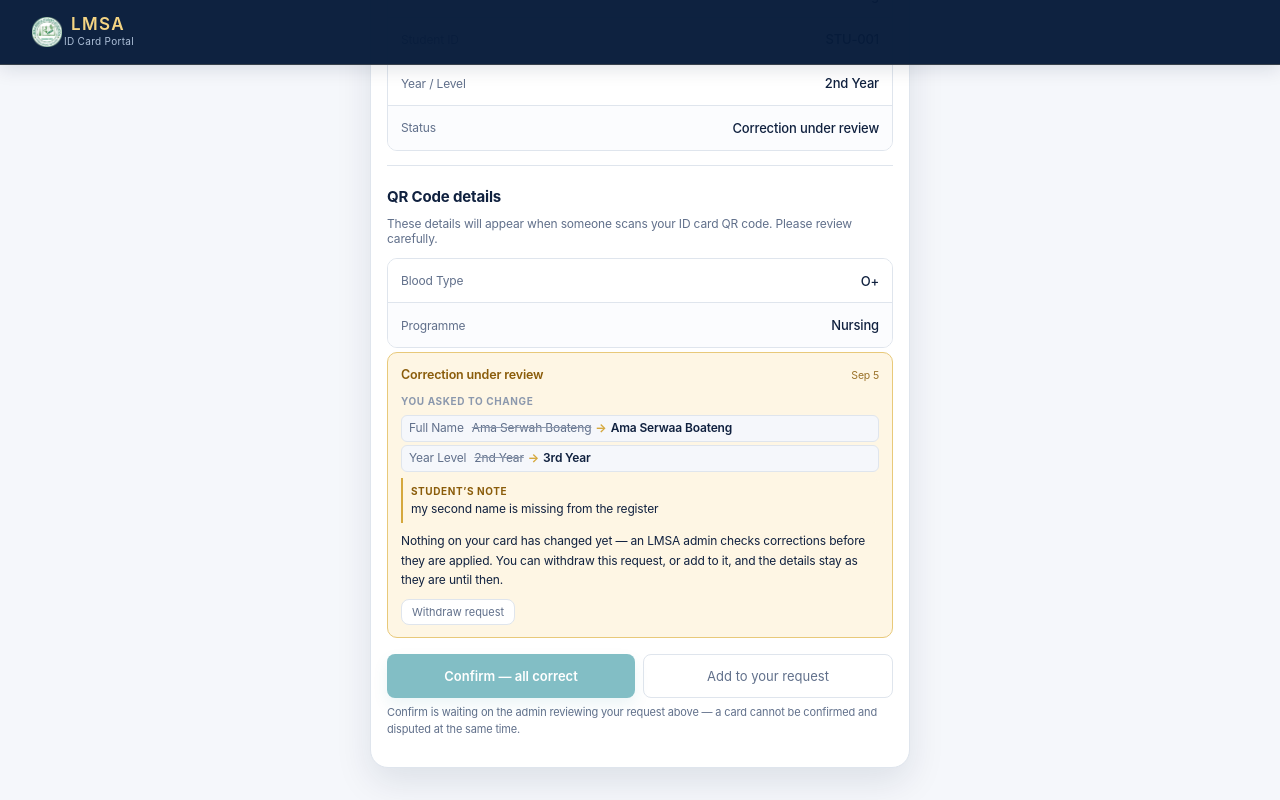
Test: preview page — a correction is a request under review › still offers a way to add to the request
(page scrolled)
Click the button "Add to your request": (768, 676) [643, 654, 893, 698]
(page scrolled)
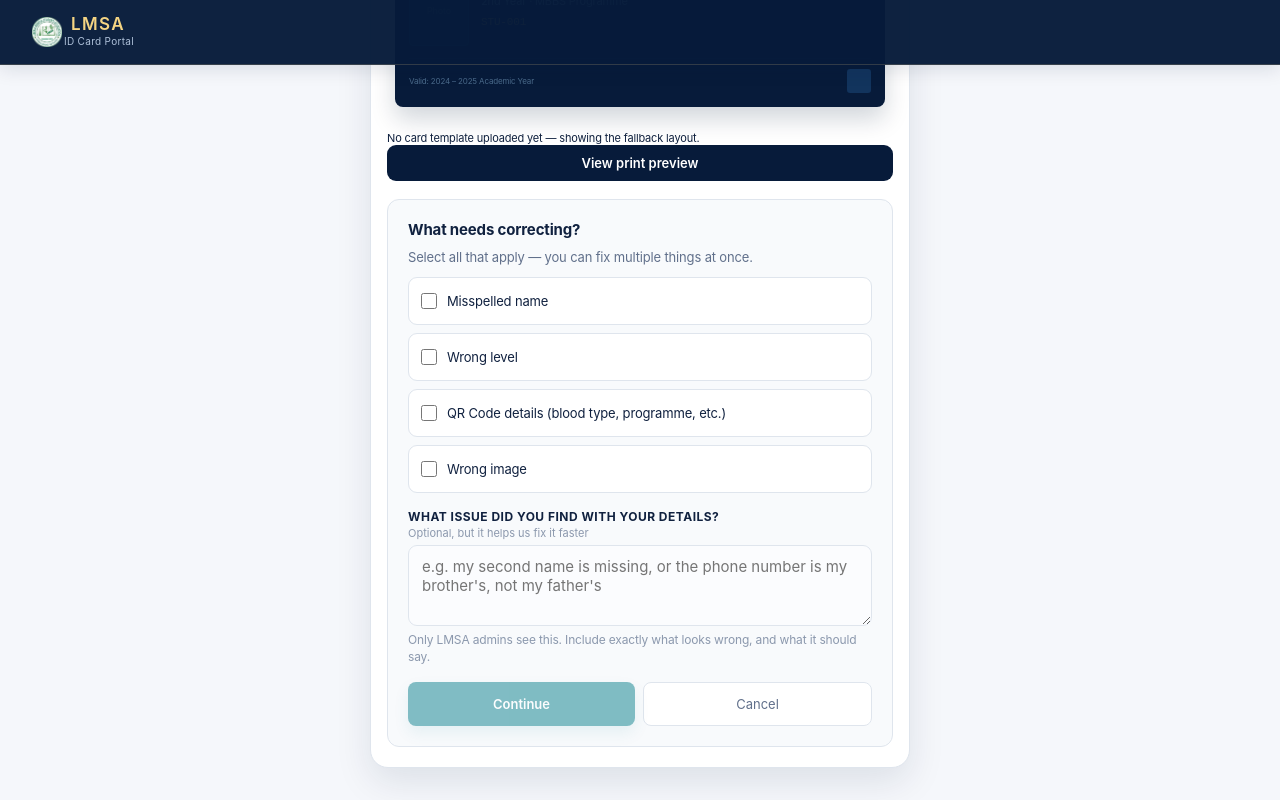
Result: the text "What needs correcting?" is shown at [408, 220, 580, 239]
